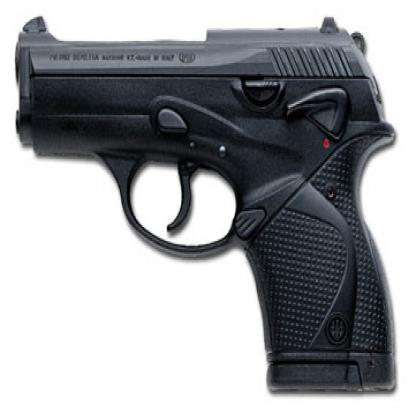Guns: (12, 5, 398, 394)
